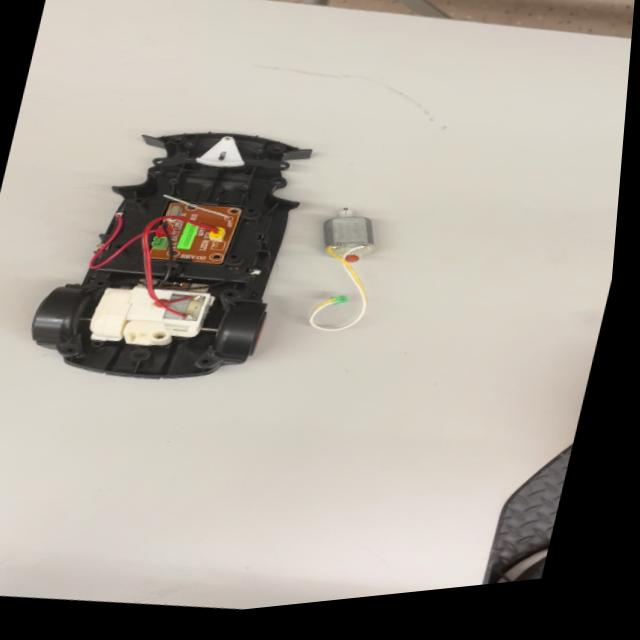Chassis: (18, 96, 329, 410)
motor: (296, 189, 395, 341)
